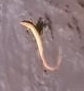Anguilla anguilla: (20, 20, 64, 71)
